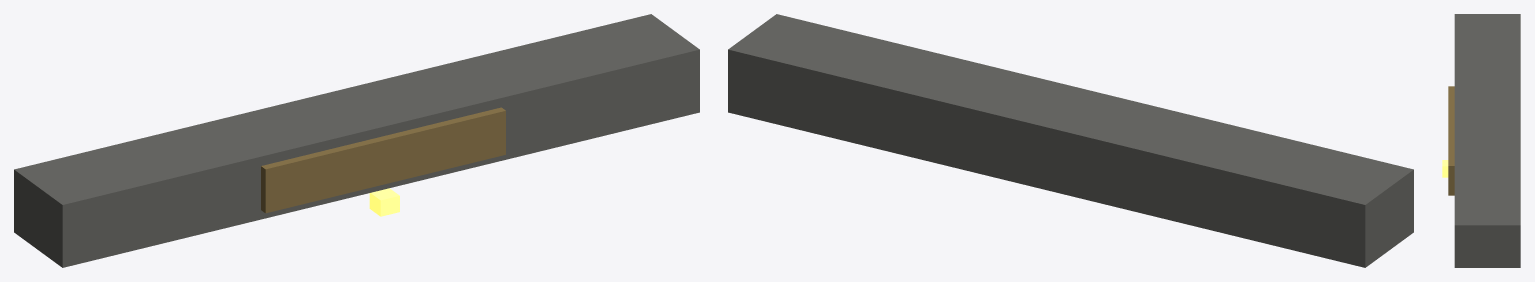
The model's file is town_arch.glb.
3 renders of one model, left to right at view 1: azimuth 30°, elevation 25°; view 2: azimuth 150°, elevation 25°; view 3: azimuth 270°, elevation 25°, orthographic. The views are drawn at different scales.
Parts seen in each view (by area): view 1: beam, sign, lamp; view 2: beam; view 3: beam, sign, lamp.
Part boxes in pixels (box(x1,y1,x2,y2)): beam: box(14, 14, 699, 267); sign: box(261, 107, 505, 213); lamp: box(369, 188, 399, 216); beam: box(728, 14, 1413, 267); beam: box(1454, 14, 1520, 267); sign: box(1448, 86, 1454, 195); lamp: box(1442, 160, 1448, 177).
Size of the model in its own units: 10.6 by 1.28 by 1.66.
